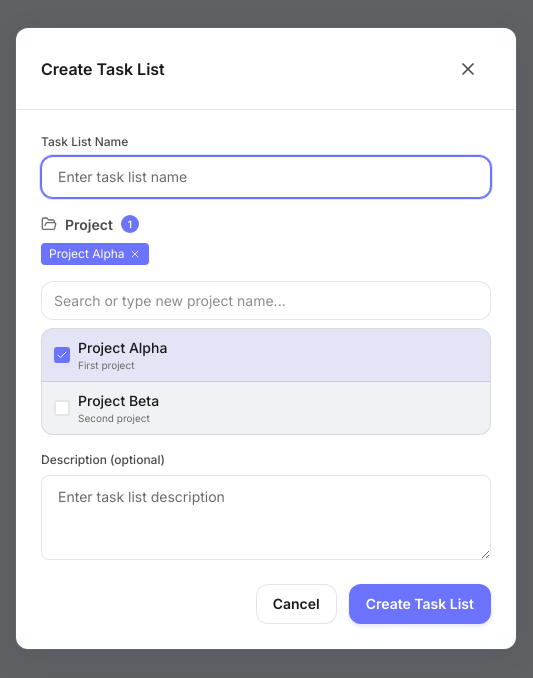
CreateTaskListModal › Form Validation › clears error when user starts typing
Check: the radio button labelled "Project Alpha First project" is shown, box [42,328,490,382]
Click the button "Create Task List": {"x": 420, "y": 604} [349,584,491,624]
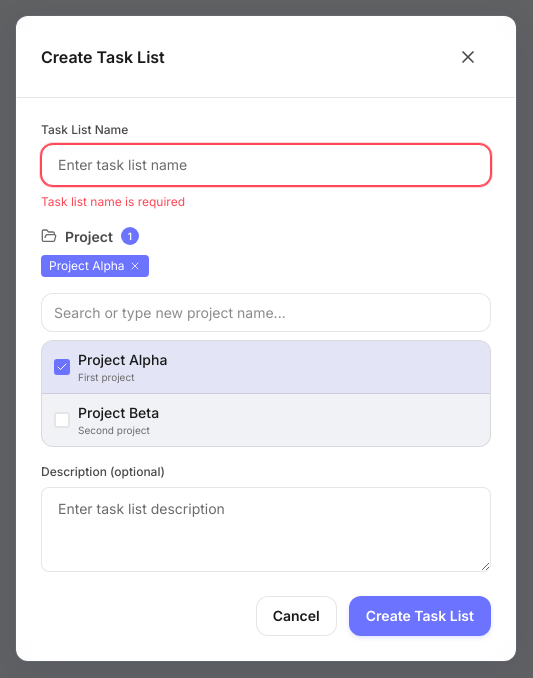
Check: the text "Task list name is required" is shown, box [41,194,185,208]
In the field with placeholder "Enter task list name": {"x": 266, "y": 164} [41,144,491,186], type "T"
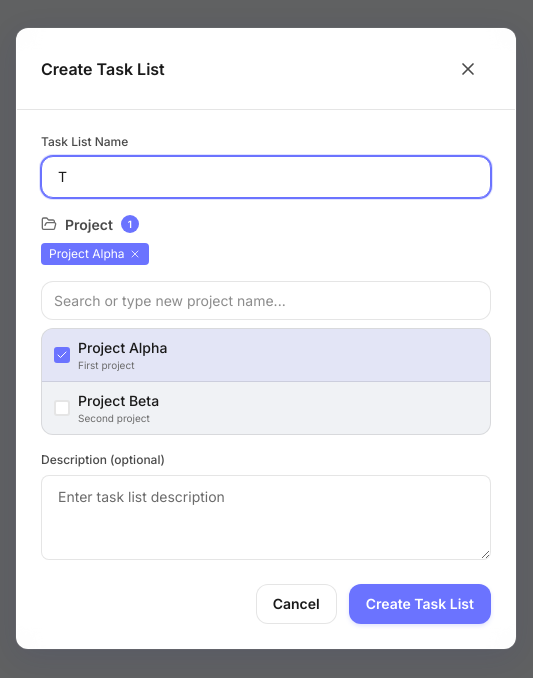
Check: the text "Task list name is required" is gone
